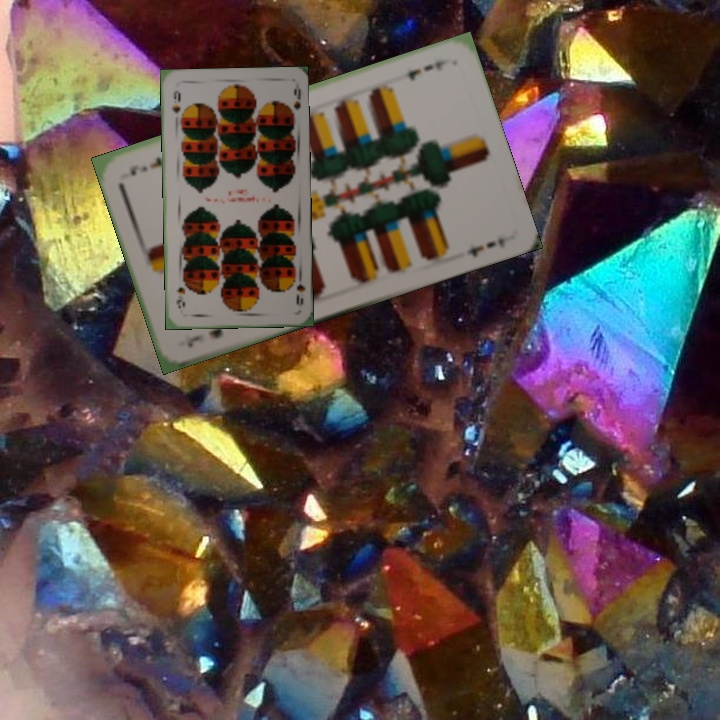E7: (403, 55, 452, 83), (183, 324, 225, 350)
S9: (292, 270, 308, 307), (168, 86, 183, 116)
